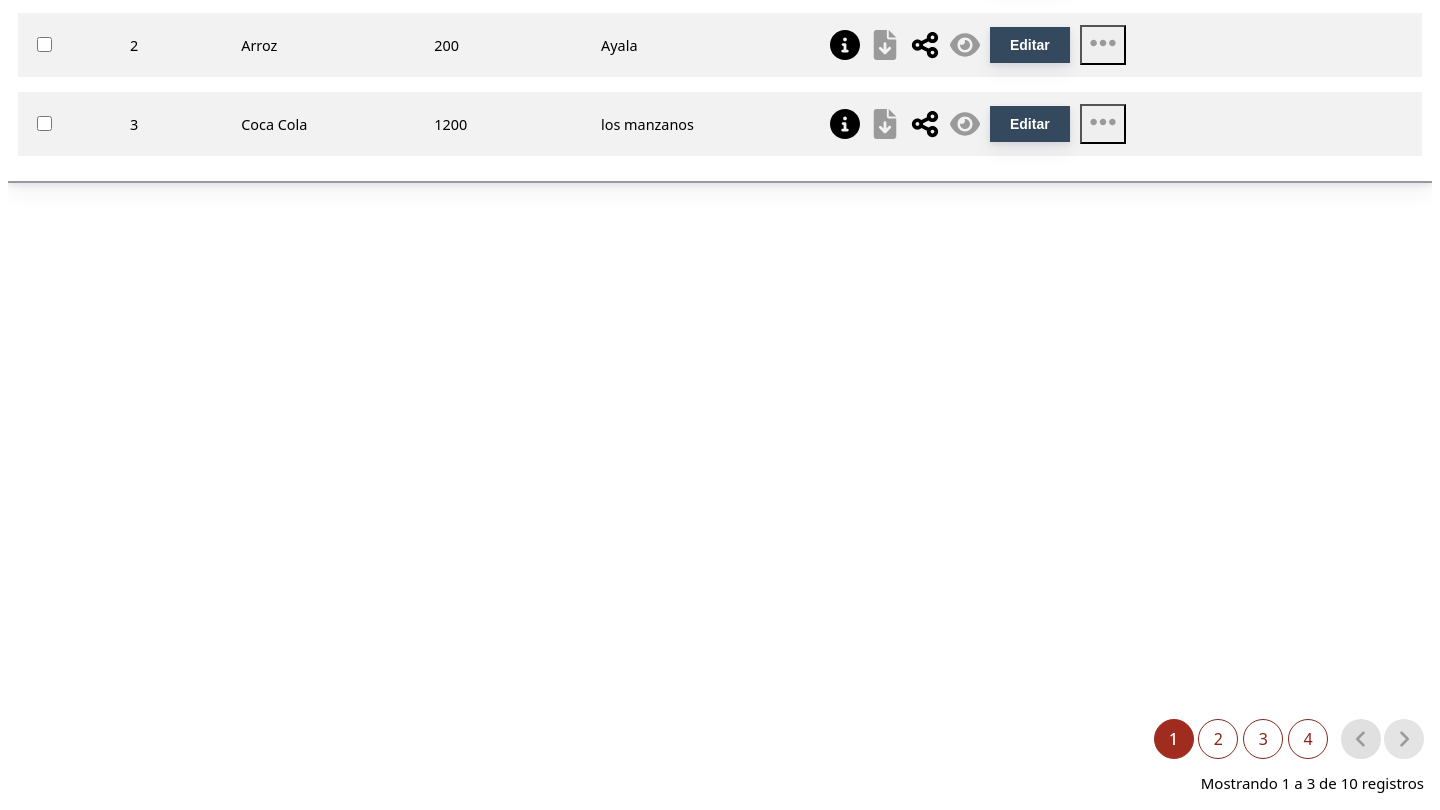
it: Testing Table › Debe mostrar los botones de paginacion y deben ser clickeables y mostrar el siguiente item
(page scrolled)
Click the button named "next" at (1404, 739), box [1384, 719, 1424, 759]
(page scrolled)
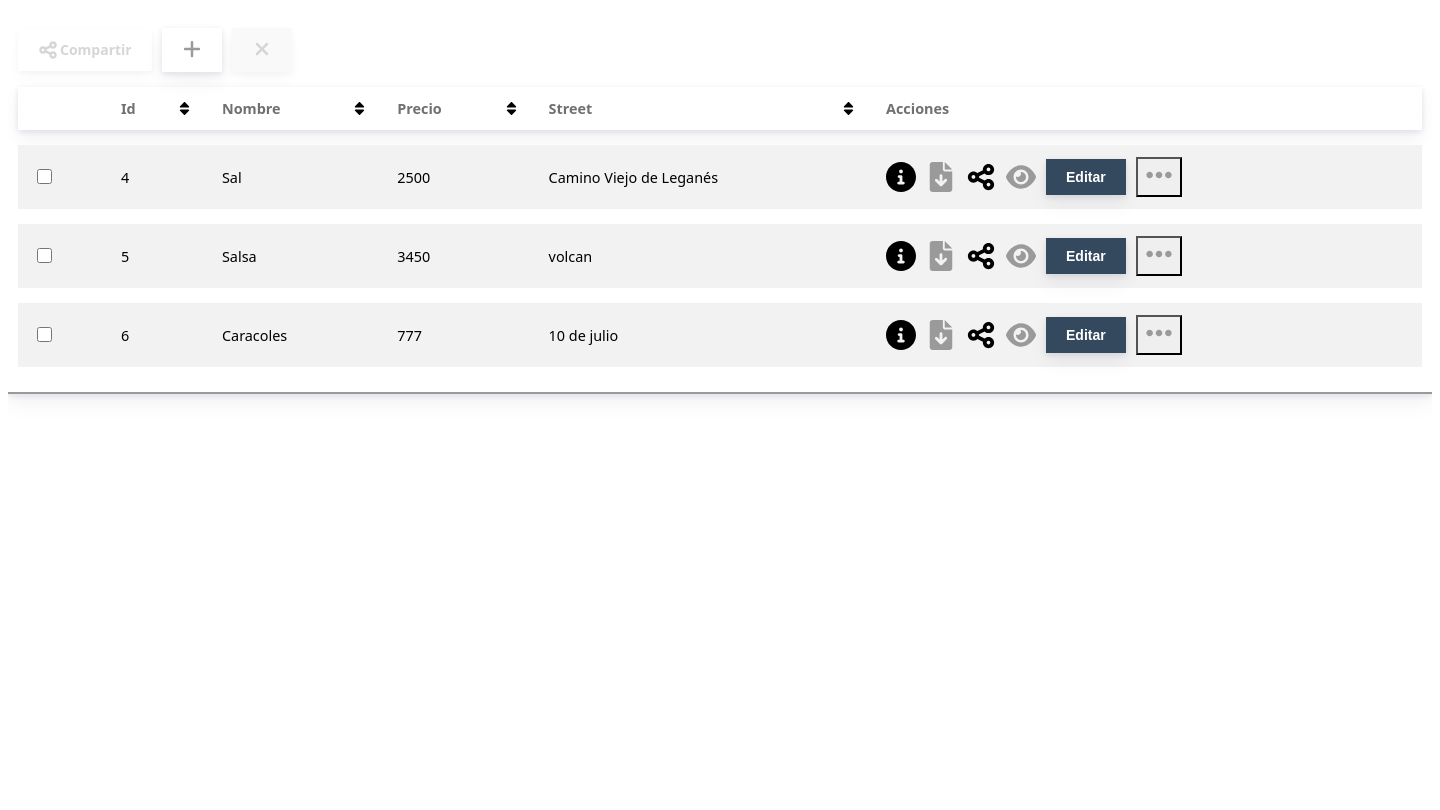
Check: the cell "Camino Viejo de Leganés" is shown, box [534, 145, 871, 209]
